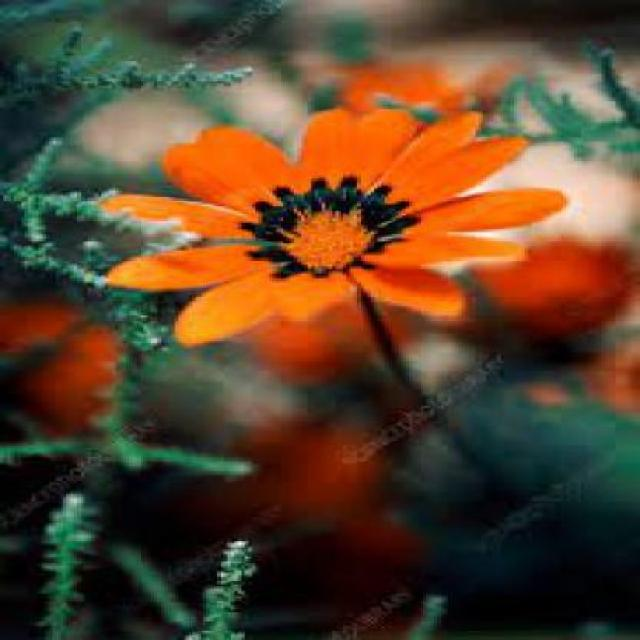Flower: (101, 106, 567, 348), (290, 211, 372, 269)
